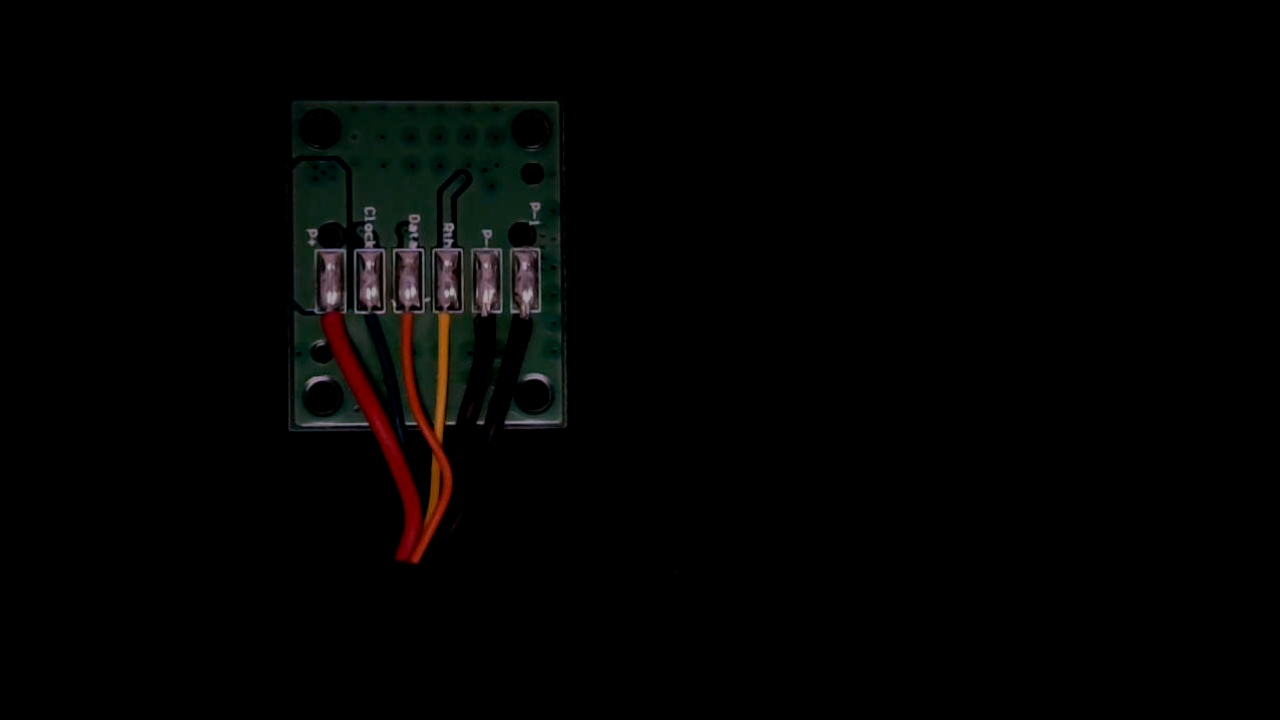Black: (469, 298, 501, 368)
Black1: (508, 298, 541, 363)
Green: (355, 299, 388, 356)
Orange: (392, 297, 424, 358)
Red: (315, 297, 349, 360)
Yellow: (430, 297, 462, 363)
